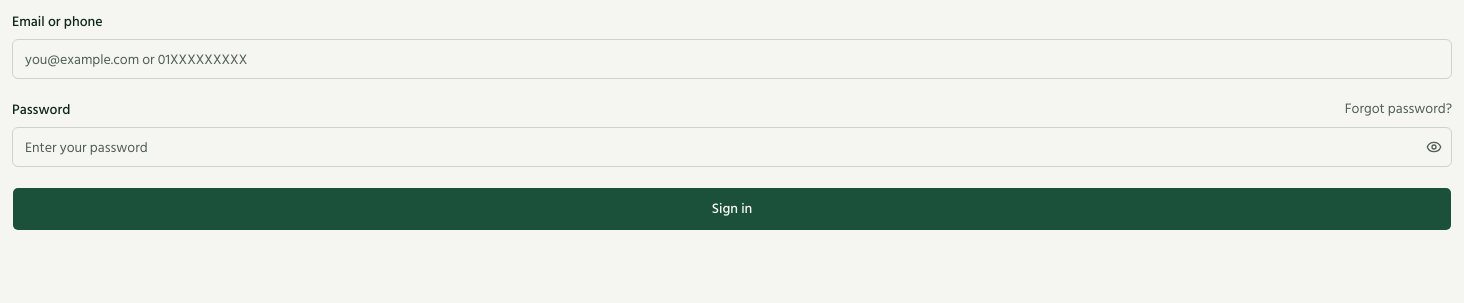
LoginForm › waits for Sign in before showing field errors, then clears them while typing
Click the field labelled "Email or phone".
click(732, 59)  # box [12,39,1452,79]
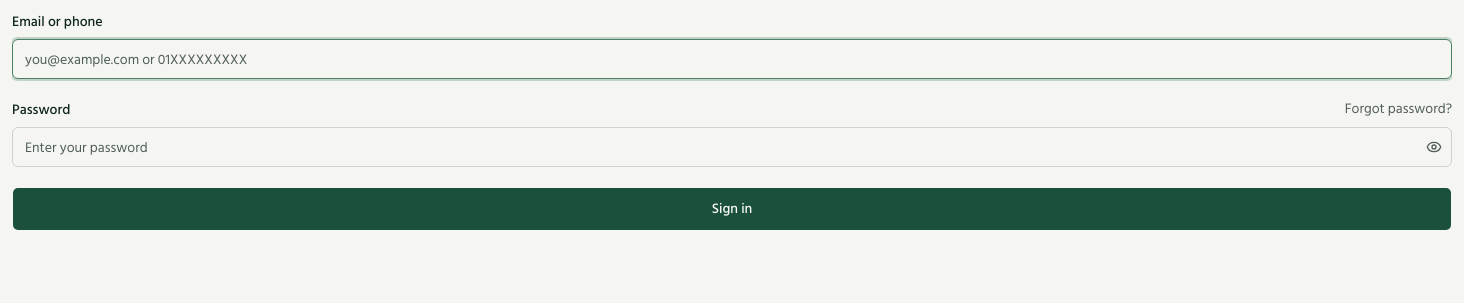
Press Tab
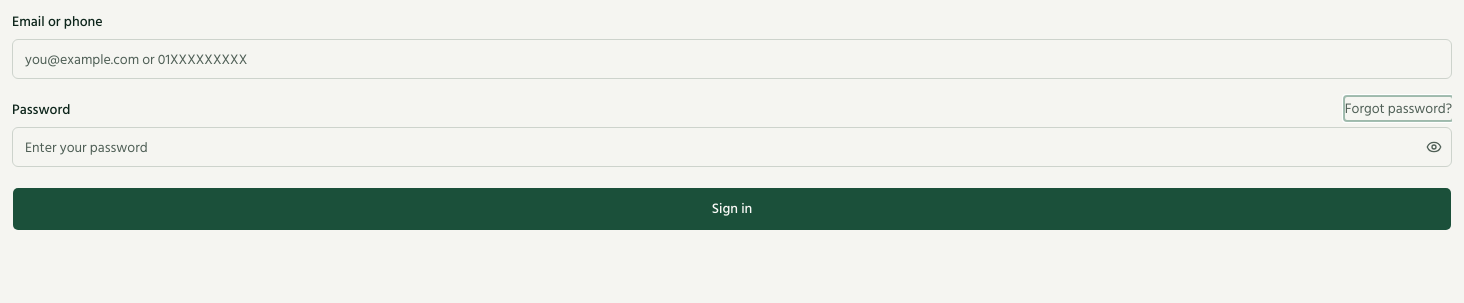
Expected: the text "Email or phone number is required" is not shown
Click the button "Sign in".
click(732, 209)  # box [12,187,1452,231]
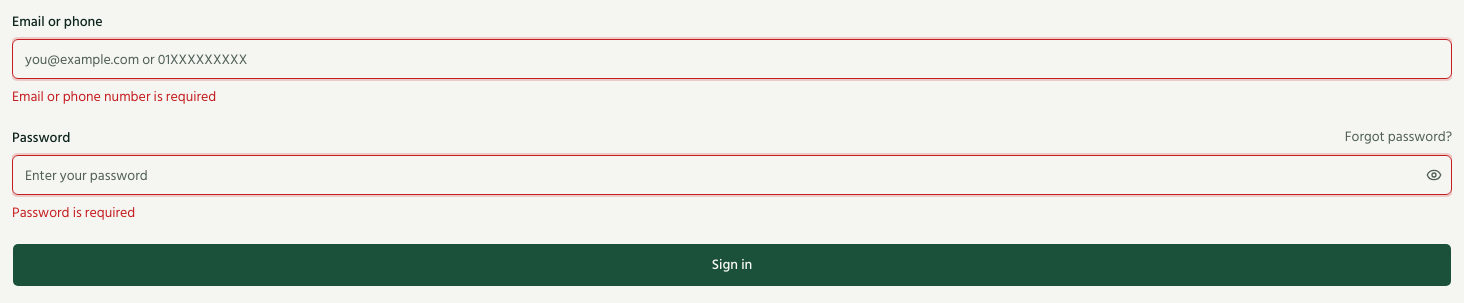
Now the text "Email or phone number is required" is shown, box [12,85,216,108]
Type "0" into the field labelled "Email or phone".
click(732, 59); type("0")  # box [12,39,1452,79]
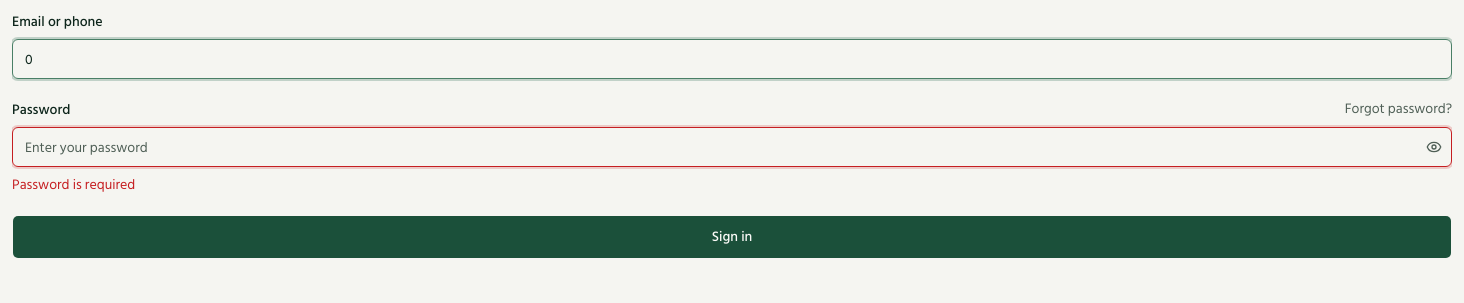
Now the text "Password is required" is shown, box [12,173,135,196]
Now the text "Email or phone number is required" is gone
